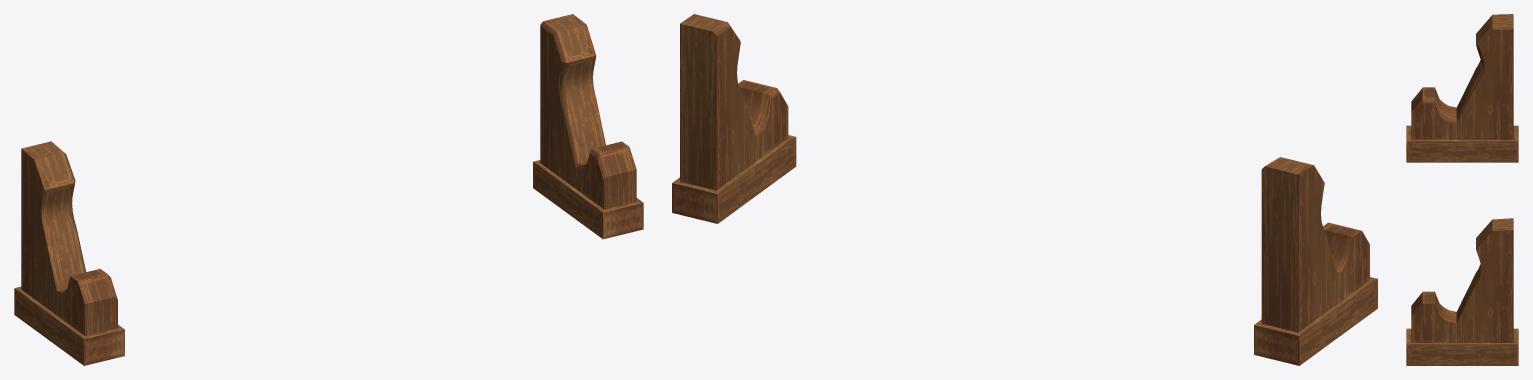
The model's file is Shelf_Sword.fbx.
3 renders of one model, left to right at view 1: azimuth 30°, elevation 25°; view 2: azimuth 150°, elevation 25°; view 3: azimuth 270°, elevation 25°, orthographic. The views are drawn at different scales.
Parts seen in each view (by area): view 1: Shelf_Sword; view 2: Shelf_Sword; view 3: Shelf_Sword.
Boxes of the visible parts, bbox=[...] form: Shelf_Sword: bbox=[14, 14, 643, 365]; Shelf_Sword: bbox=[672, 14, 1377, 365]; Shelf_Sword: bbox=[1406, 14, 1518, 365].
Size of the model in its own units: 94.73 by 27.09 by 20.51.
